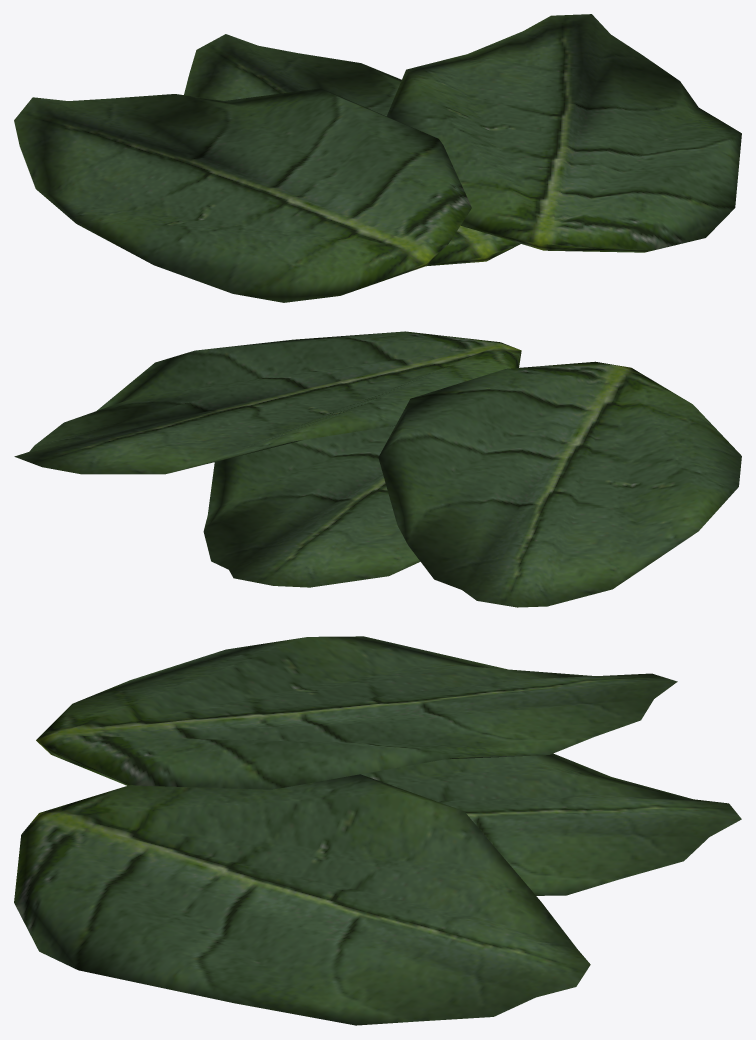
Rendered from TobaccoLeaves.fbx.
3 views of the same model, one above another, from view 1: azimuth 30°, elevation 25°; view 2: azimuth 150°, elevation 25°; view 3: azimuth 270°, elevation 25° (orthographic). The views are drawn at different scales.
Visible parts, largest first — view 1: Plant.001; view 2: Plant.001; view 3: Plant.001.
Boxes of the visible parts, x1,y1,x2,y2 form: Plant.001: [14, 14, 741, 302]; Plant.001: [14, 331, 741, 607]; Plant.001: [14, 636, 741, 1025].
Size of the model in its own units: 0.247 by 0.028 by 0.2138.
